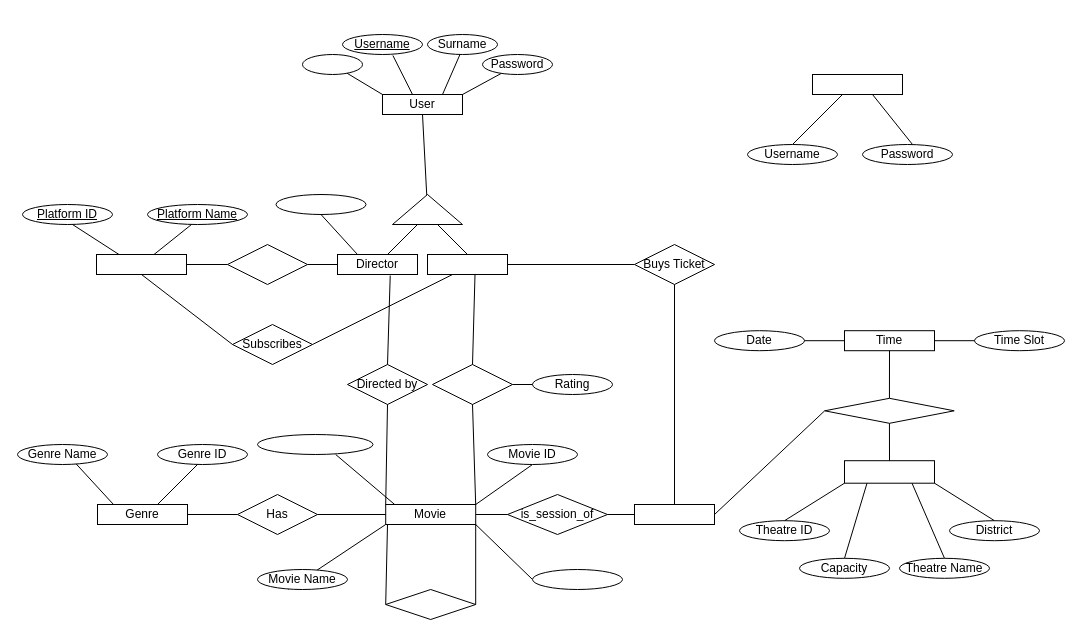
Some shapes in this 1082 by 637 pixel diagram are drawn without their labels. The shapes that lost their labels are listed below. From the top down, each one's centre as x and y in pixels, then its label:
[332,64]: Name
[857,84]: DB Manager
[320,204]: Nation
[427,209]: ISA
[141,264]: Rating Platform
[267,264]: Uses
[467,264]: Audience
[472,384]: Rates
[889,410]: PLAYS IN
[314,444]: Average Rating
[889,471]: Theatre
[674,514]: Movie Session
[577,579]: Duration
[430,604]: Succeeds
